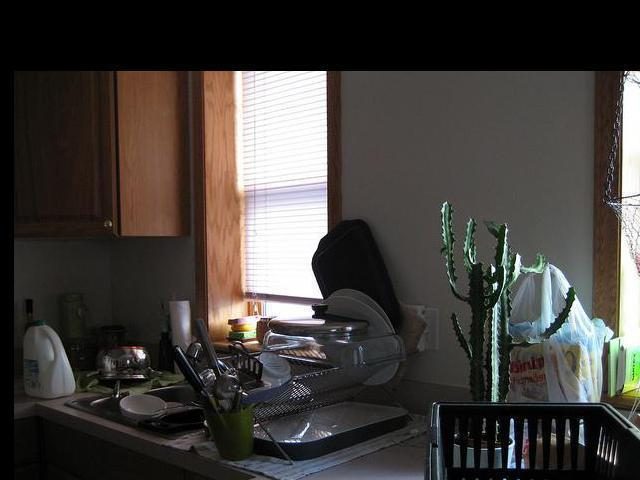Lavaplatos: (46, 305, 284, 461)
